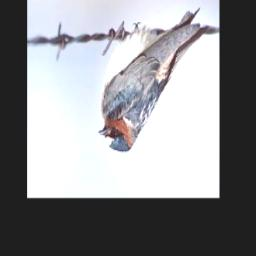Swallow: (99, 4, 209, 153)
